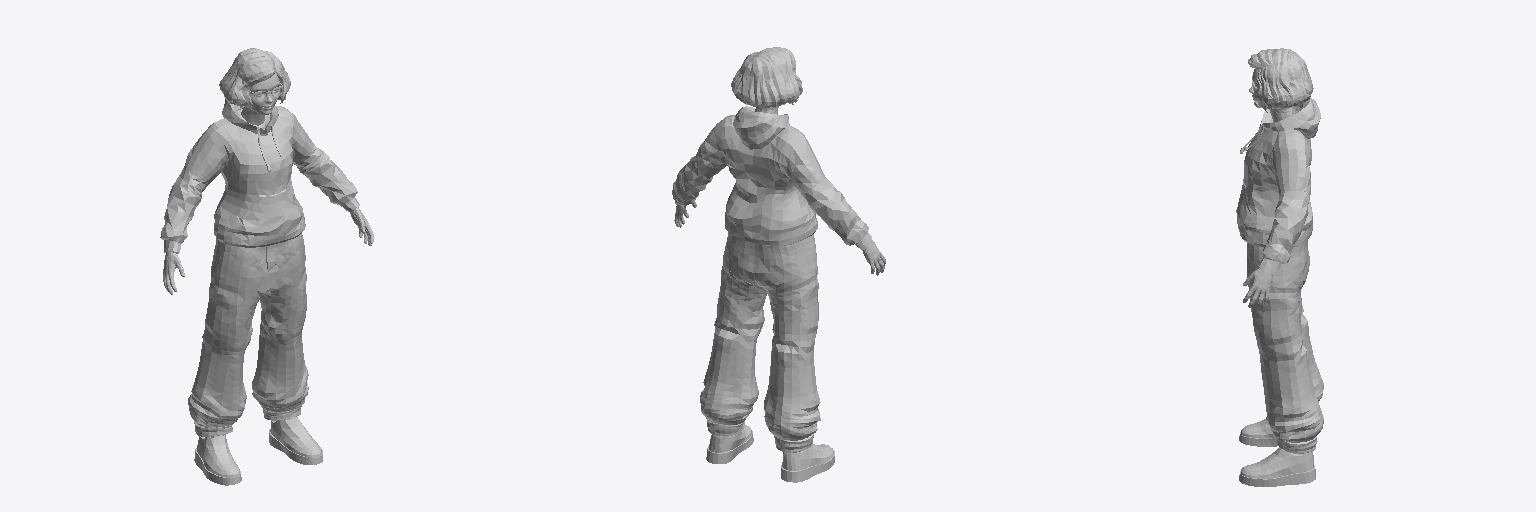
File: Avatar.obj
3 renders of one model, left to right at view 1: azimuth 30°, elevation 25°; view 2: azimuth 150°, elevation 25°; view 3: azimuth 270°, elevation 25°, orthographic.
Parts seen in each view (by area): view 1: EyeLeft; view 2: EyeLeft; view 3: EyeLeft.
Part boxes in pixels (bbox=[...]): EyeLeft: bbox=[160, 48, 373, 485]; EyeLeft: bbox=[672, 47, 885, 482]; EyeLeft: bbox=[1236, 48, 1323, 486].
Size of the model in its own units: 92.83 by 177 by 34.4.